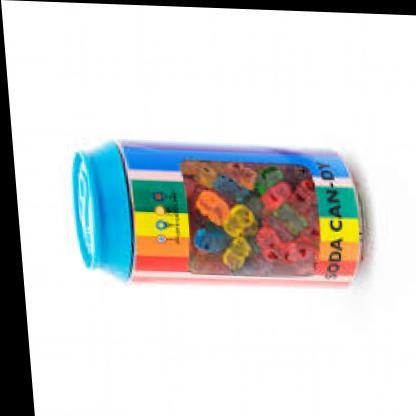trash: (73, 141, 363, 281)
